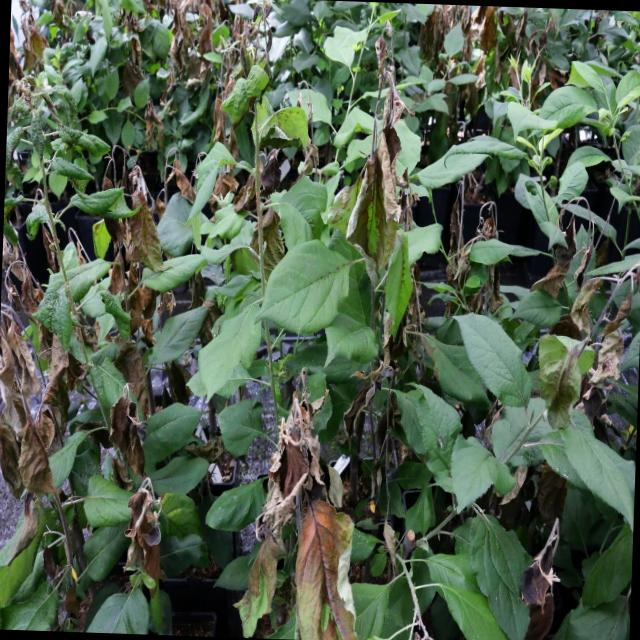-FireBlight-: (235, 377, 364, 640), (102, 178, 170, 585), (0, 228, 91, 505), (538, 214, 640, 425), (345, 34, 414, 295), (201, 144, 339, 259), (140, 0, 219, 142), (209, 0, 274, 148), (418, 5, 494, 115), (438, 180, 502, 281), (504, 11, 563, 92), (11, 0, 54, 105), (118, 13, 145, 91)
